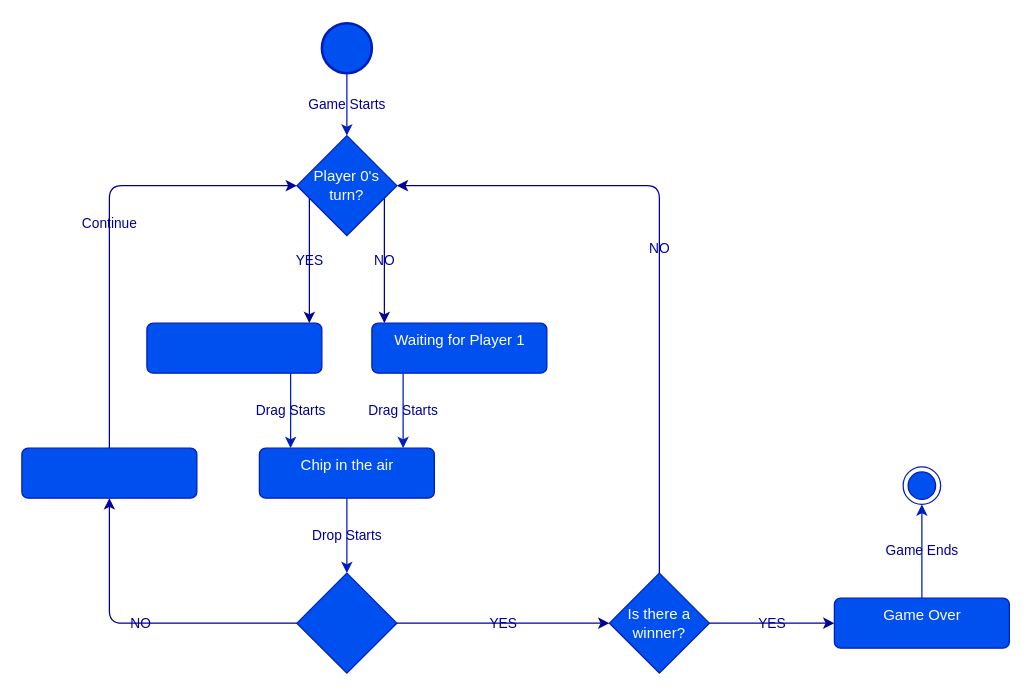
Image size: 1031x695. Some labels were removed from this diagram. Each missing label, with the centre of its shape:
Communicating Error: pixel 109 472
Move is valid?: pixel 346 622
Waiting for Player 0: pixel 234 347
